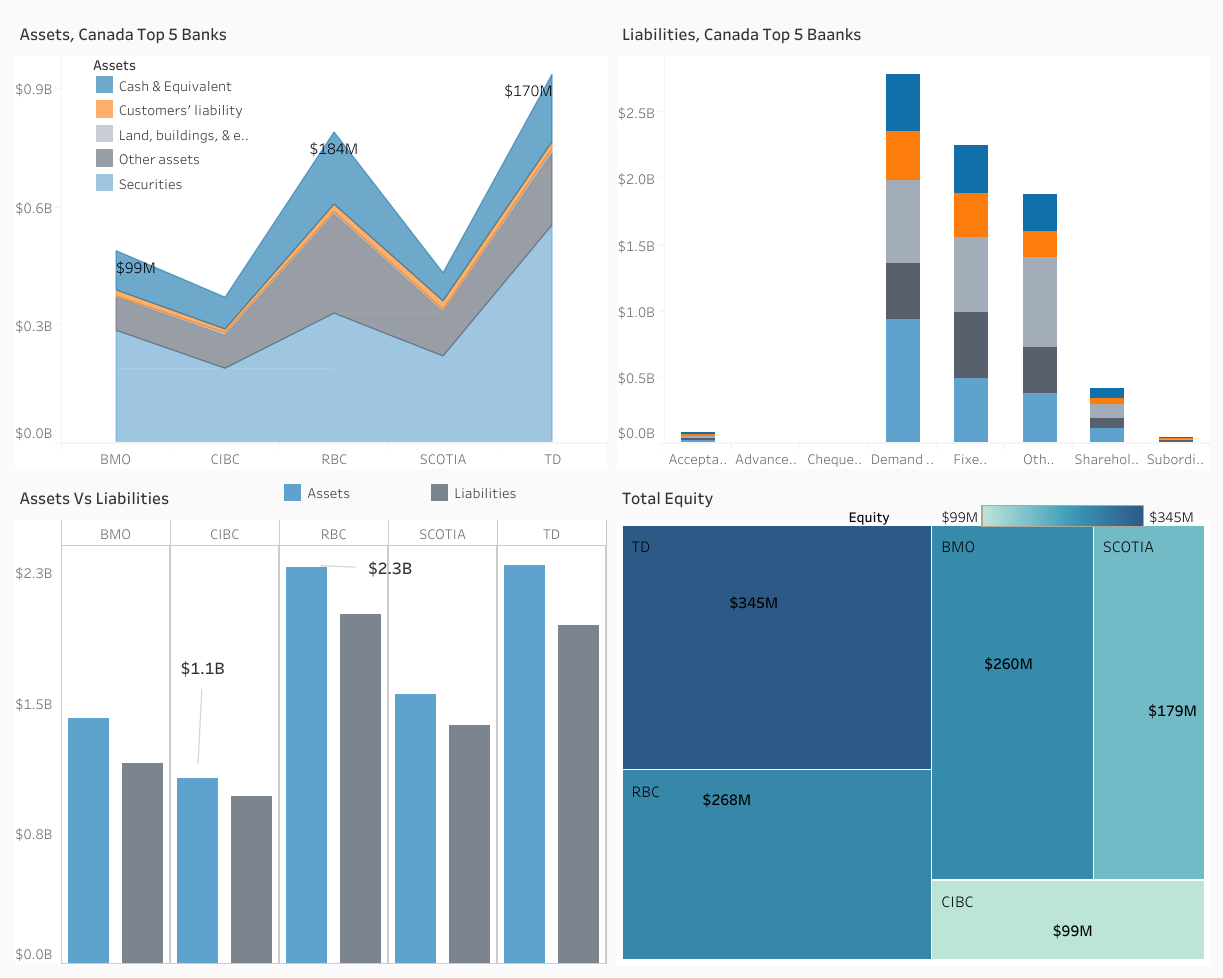

What the dashboard file says about the page in this screenshot:
{"tool":"tableau","page":{"name":"Dashboard 1","canvas":[1000,800],"ordinal":0},"visuals":[{"type":"worksheet","title":"Assets","mark":"Area","cols":["Banks"],"box":[8,8,492,379]},{"type":"worksheet","title":"Liabilities","mark":"Automatic","box":[500,8,492,379]},{"type":"legend","title":"Assets","param":"[federated.15l9133169c79c16570n50rx49bh].[:Measure Names]","box":[75,43,131,151]},{"type":"worksheet","title":"A vs L","mark":"Automatic","cols":["Banks (Total)"],"box":[8,387,492,405]},{"type":"worksheet","title":"Equity","mark":"Automatic","box":[500,387,492,405]},{"type":"legend","title":"A vs L","param":"[federated.15l9133169c79c16570n50rx49bh].[:Measure Names]","box":[229,392,266,37]},{"type":"legend","title":"Equity","param":"[federated.15l9133169c79c16570n50rx49bh].[sum:Calculation_1257911738147303424:qk","box":[693,409,287,35]}]}

Visuals, with their boxes in screenshot pixels (x1, y1, x2, y2), scaled from the page's 1000x800 canvas onto the 1223x978 screenshot:
"Assets" worksheet (Area marks): [10,10,612,473]
"Liabilities" worksheet: [612,10,1213,473]
"Assets" legend: [92,53,252,237]
"A vs L" worksheet: [10,473,612,968]
"Equity" worksheet: [612,473,1213,968]
"A vs L" legend: [280,479,605,524]
"Equity" legend: [848,500,1199,543]
